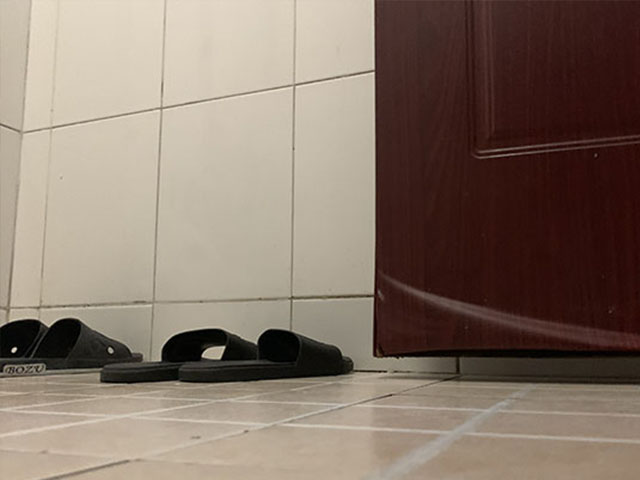slippers: (178, 328, 353, 383), (97, 328, 254, 385), (1, 316, 141, 378), (1, 318, 43, 364)
